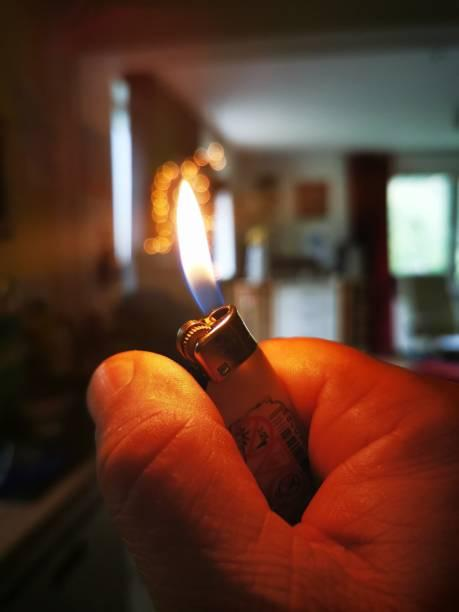Fire: (172, 179, 227, 309)
